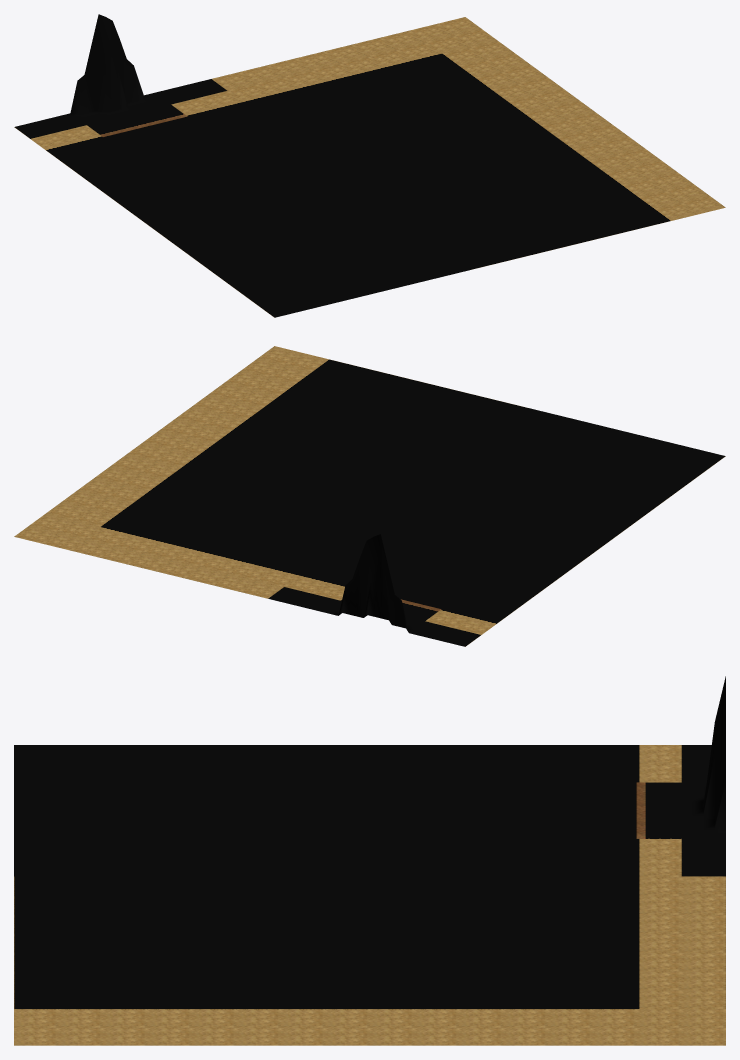
Rendered from terrain.glb.
3 views of the same model, one above another, from view 1: azimuth 30°, elevation 25°; view 2: azimuth 150°, elevation 25°; view 3: azimuth 270°, elevation 25° (orthographic). The views are drawn at different scales.
Visible parts, largest first — view 1: terrain_0_1; view 2: terrain_0_1; view 3: terrain_0_1.
Boxes of the visible parts, x1,y1,x2,y2 form: terrain_0_1: (14,14,725,317); terrain_0_1: (14,346,725,646); terrain_0_1: (14,676,725,1045).
Bounding box in the file's own units: 512 × 100 × 512.
Materials: 1 (1 with a texture image).
